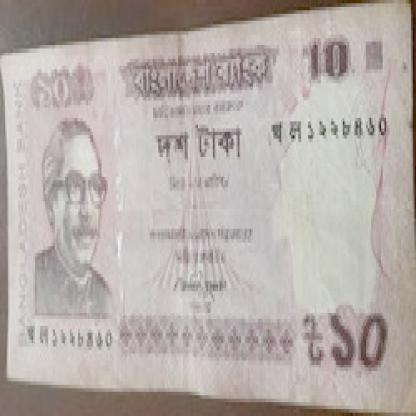Ten Taka: (330, 291, 391, 382), (296, 35, 356, 83), (35, 62, 83, 111)
